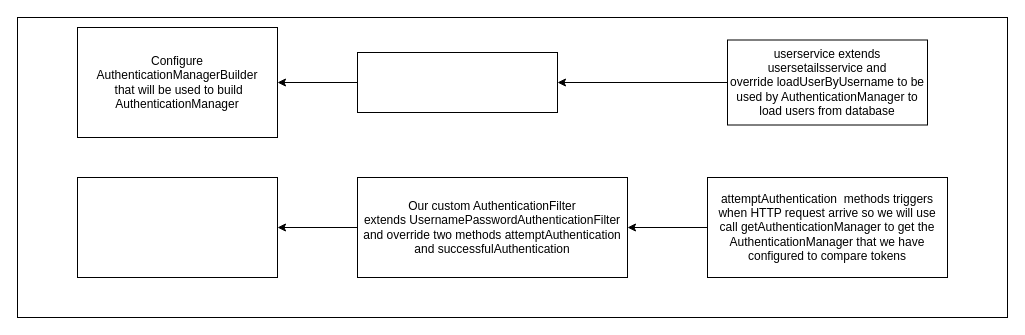
Some shapes in this 1025 by 335 pixel diagram are drawn without their labels. The shapes that lost their labels are listed below. From the top down, each one's centre as x and y in pixels, then its label:
pixel 457 82: subcribe (userservice and paaword encoder)
pixel 177 227: Register our custom AuthenticationFilter in httpsecurity
